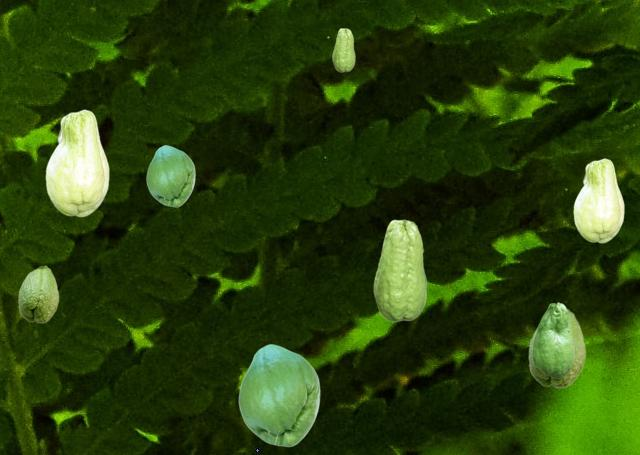sayote: (238, 344, 319, 446), (45, 109, 108, 216), (373, 219, 426, 321), (528, 308, 585, 387), (573, 158, 623, 242), (532, 302, 573, 377), (146, 145, 194, 206), (18, 265, 58, 322), (332, 28, 354, 71)
